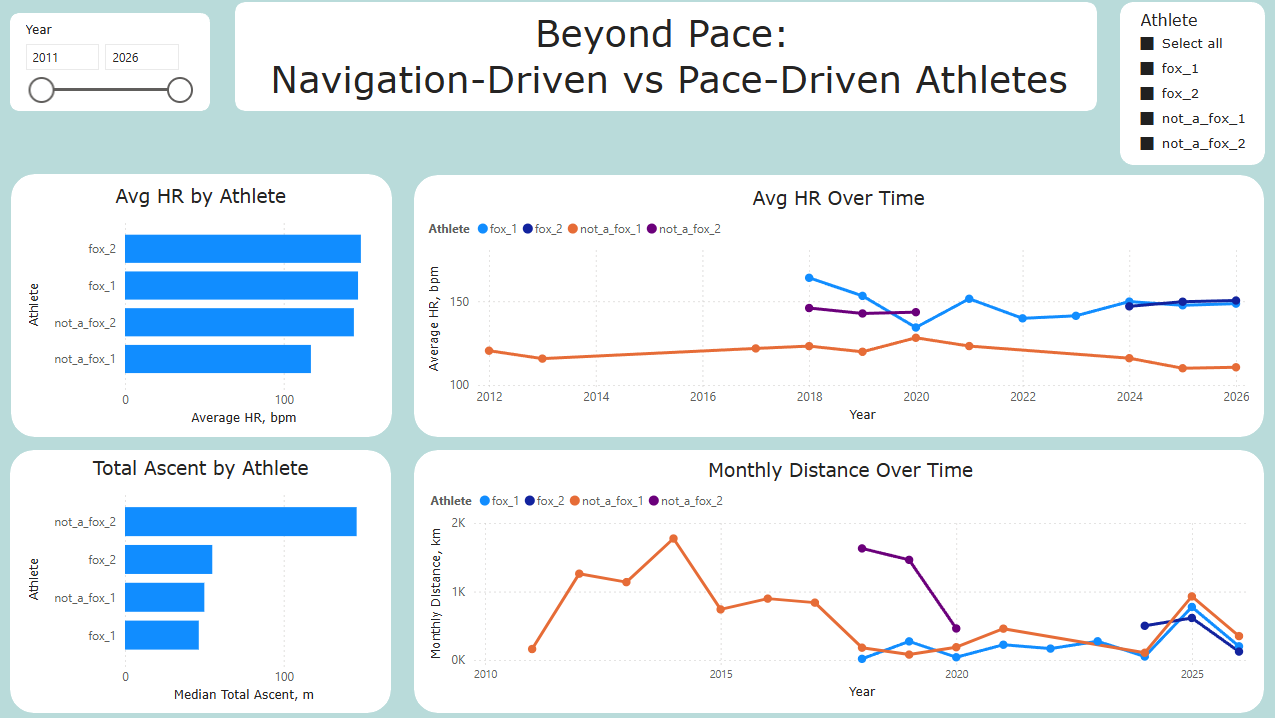

What the dashboard file says about the page in this screenshot:
{"tool":"powerbi","page":{"name":"Training Over Time","canvas":[1280,720],"ordinal":1},"visuals":[{"type":"shape","box":[11.6,174.4,381.5,262.7],"z":1000},{"type":"shape","box":[10.5,12.6,200.7,98.8],"z":2000},{"type":"slicer","fields":{"Values":["garmin_combined.Year"]},"box":[14.3,16.9,187.3,89.8],"z":3000},{"type":"shape","box":[236.5,2.1,861.7,109.3],"z":4000},{"type":"textbox","box":[258.8,4.5,823,106.6],"z":5000},{"type":"clusteredBarChart","title":"Avg HR by Athlete","fields":{"Category":["garmin_combined.Athlete"],"Y":["Avg(garmin_combined.Avg HR)"]},"box":[25.2,183.9,354.2,245.9],"z":6000},{"type":"shape","box":[10.5,449.8,381.5,262.7],"z":7000},{"type":"clusteredBarChart","title":"Total Ascent by Athlete","fields":{"Category":["garmin_combined.Athlete"],"Y":["Median(garmin_combined.Total Ascent)"]},"box":[25.2,456.1,354.2,251.2],"z":8000},{"type":"shape","box":[415.1,174.5,850.2,262.7],"z":9000},{"type":"lineChart","title":"Avg HR Over Time","fields":{"Y":["Avg(garmin_combined.Avg HR)"],"Category":["garmin_combined.Year"],"Series":["garmin_combined.Athlete"]},"box":[424.6,186.1,830.2,240.7],"z":10000},{"type":"shape","box":[415.1,449.8,850.2,262.7],"z":11000},{"type":"lineChart","title":"Monthly Distance Over Time","fields":{"Y":["Sum(garmin_combined.Distance)"],"Series":["garmin_combined.Athlete"],"Category":["garmin_combined.Year"]},"box":[426.7,458.2,830.2,245.9],"z":12000},{"type":"shape","box":[1121.3,2.1,145,162.9],"z":13000},{"type":"slicer","fields":{"Values":["garmin_combined.Athlete"]},"box":[1128.7,5.3,130.3,157.6],"z":14000}]}

Visuals, with their boxes in screenshot pixels (x1, y1, x2, y2), scaled from the page's 1280x720 canvas onto the 1275x718 screenshot:
shape: Rect(12, 174, 392, 436)
shape: Rect(10, 13, 210, 111)
slicer - garmin_combined.Year: Rect(14, 17, 201, 106)
shape: Rect(236, 2, 1094, 111)
textbox: Rect(258, 4, 1078, 111)
"Avg HR by Athlete" clusteredBarChart: Rect(25, 183, 378, 429)
shape: Rect(10, 449, 390, 711)
"Total Ascent by Athlete" clusteredBarChart: Rect(25, 455, 378, 705)
shape: Rect(413, 174, 1260, 436)
"Avg HR Over Time" lineChart: Rect(423, 186, 1250, 426)
shape: Rect(413, 449, 1260, 711)
"Monthly Distance Over Time" lineChart: Rect(425, 457, 1252, 702)
shape: Rect(1117, 2, 1261, 165)
slicer - garmin_combined.Athlete: Rect(1124, 5, 1254, 162)
